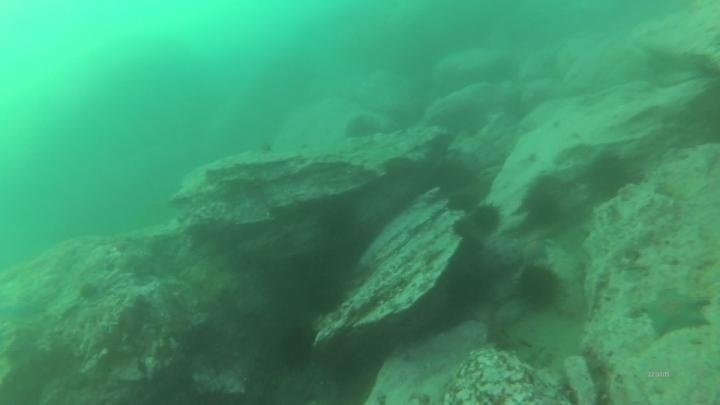echinus: (584, 152, 636, 202), (515, 263, 563, 311), (301, 271, 348, 317), (276, 321, 318, 372), (429, 156, 476, 195), (522, 187, 564, 228), (468, 201, 504, 238), (342, 113, 382, 142), (444, 189, 479, 215)
starfish: (637, 285, 713, 340), (514, 233, 553, 266)
